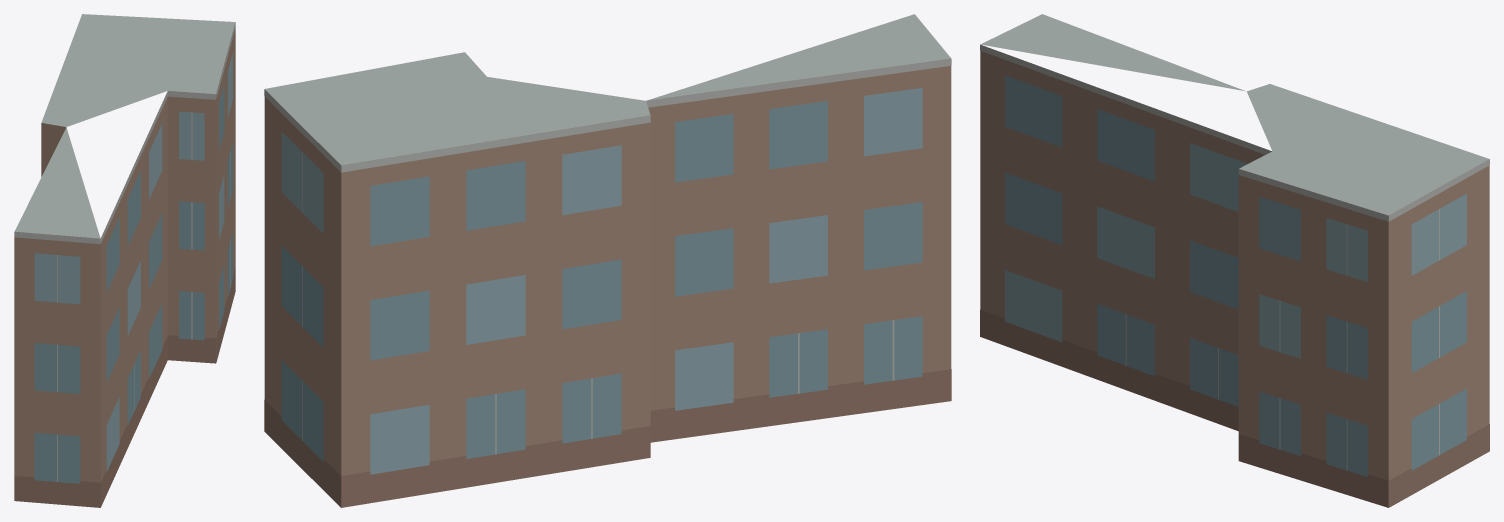
File: survey-upis-32523368.glb
3 renders of one model, left to right at view 1: azimuth 30°, elevation 25°; view 2: azimuth 150°, elevation 25°; view 3: azimuth 270°, elevation 25°, orthographic. The views are drawn at different scales.
Visible parts, largest first — view 1: survey-upis-32523368.tmp; view 2: survey-upis-32523368.tmp; view 3: survey-upis-32523368.tmp.
Part boxes in pixels (x1,y1,x2,y2): survey-upis-32523368.tmp: (14, 14, 235, 507); survey-upis-32523368.tmp: (264, 14, 951, 507); survey-upis-32523368.tmp: (980, 14, 1489, 507).
Size of the model in its own units: 17.17 by 11.6 by 18.34.
